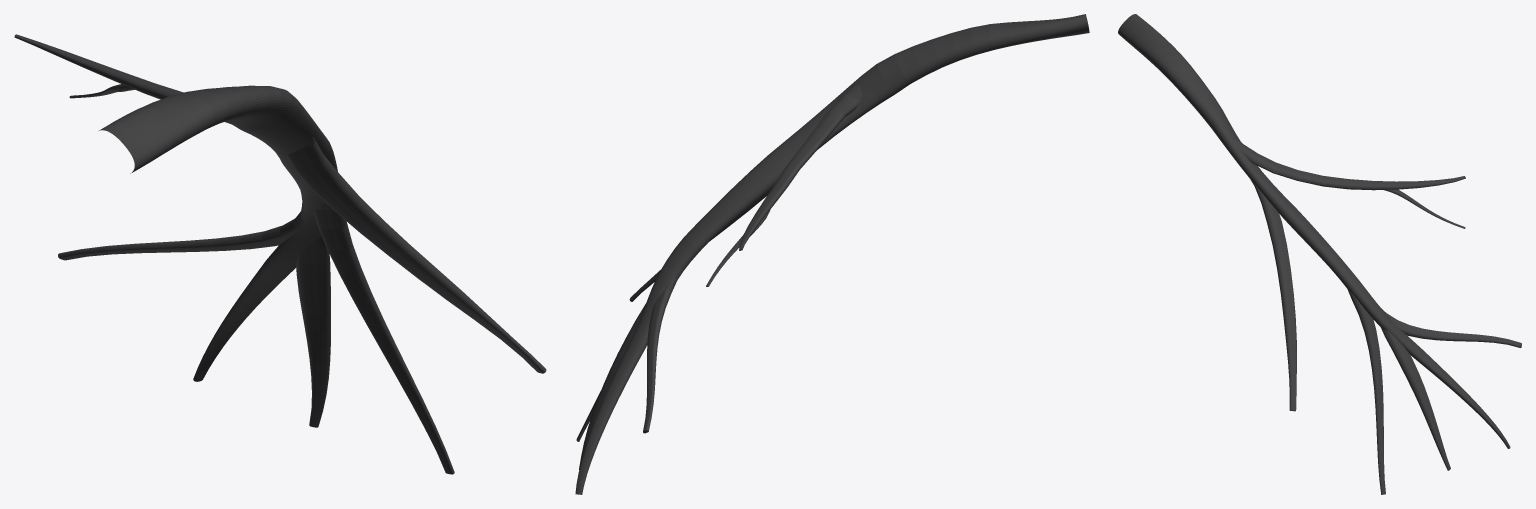
File: N_9_glossopharnygeal_pharyngeal.glb
3 views of the same model, side by side, from view 1: azimuth 30°, elevation 25°; view 2: azimuth 150°, elevation 25°; view 3: azimuth 270°, elevation 25° (orthographic). The views are drawn at different scales.
Parts seen in each view (by area): view 1: N_9_glossopharnygeal_pharyngeal; view 2: N_9_glossopharnygeal_pharyngeal; view 3: N_9_glossopharnygeal_pharyngeal.
Part boxes in pixels (box(x1,y1,x2,y2)): N_9_glossopharnygeal_pharyngeal: box(14, 34, 546, 474); N_9_glossopharnygeal_pharyngeal: box(575, 14, 1089, 494); N_9_glossopharnygeal_pharyngeal: box(1118, 14, 1521, 494).
Size of the model in its own units: 0.00464 by 0.0049 by 0.00535.
1 material, 1 textured.
